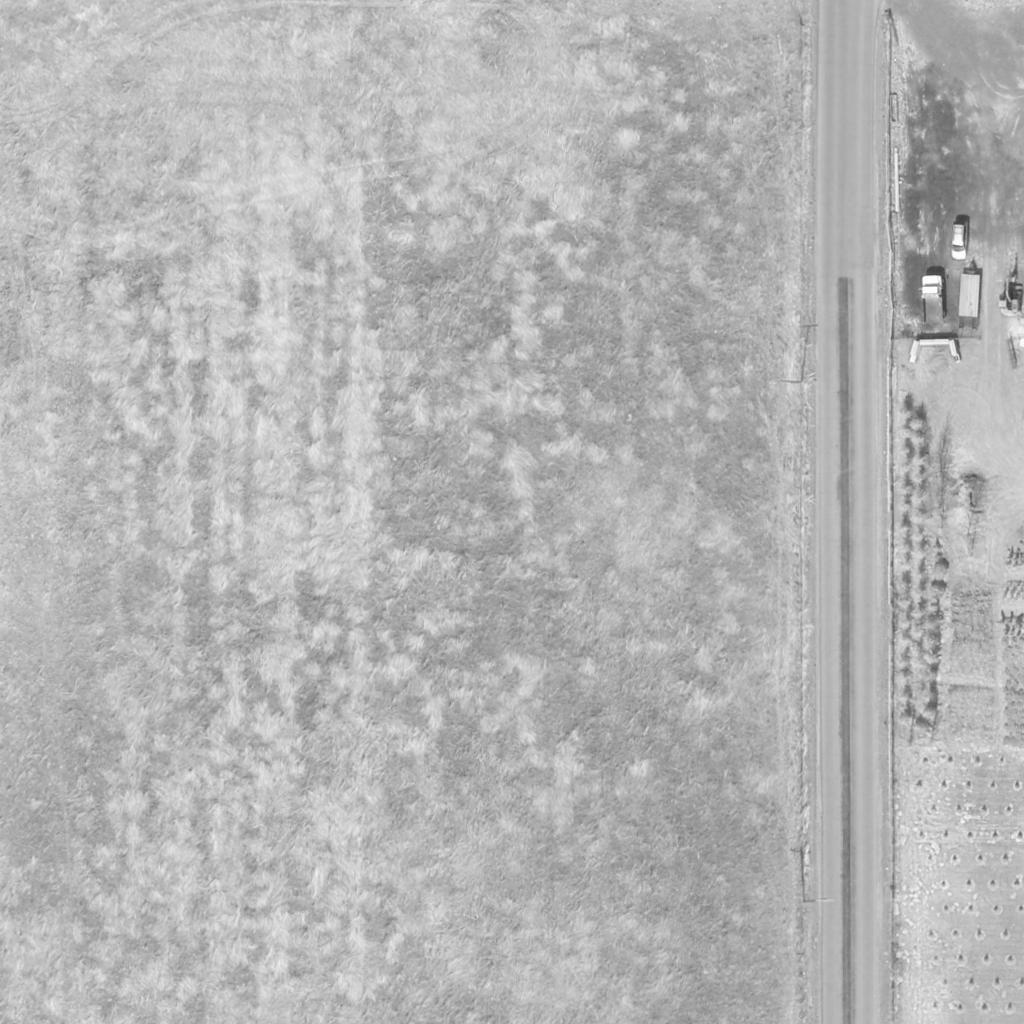vehicle: (921, 275, 945, 325), (998, 269, 1022, 317), (951, 223, 969, 261)
